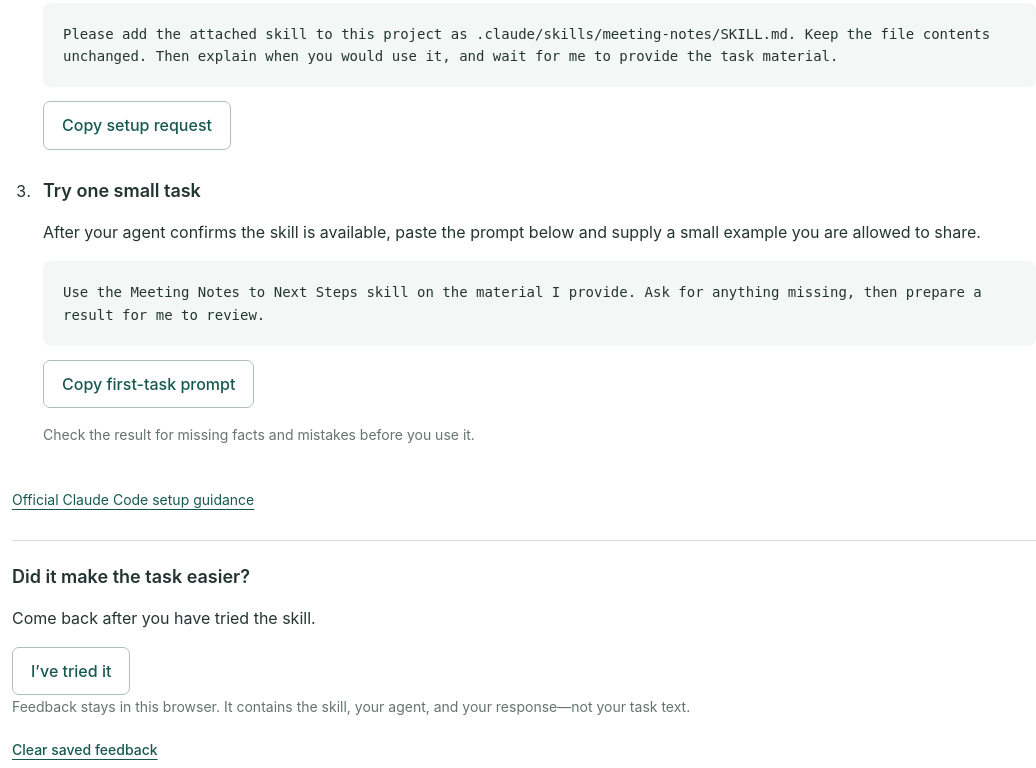
Test: blocks Copy first-task prompt if the review expires while the guide is open
(page scrolled)
Right-click the button "Copy first-task prompt" at (149,384), box [43,360,254,408]
Click the button "Copy first-task prompt" at (149,384), box [43,360,254,408]
(page scrolled)
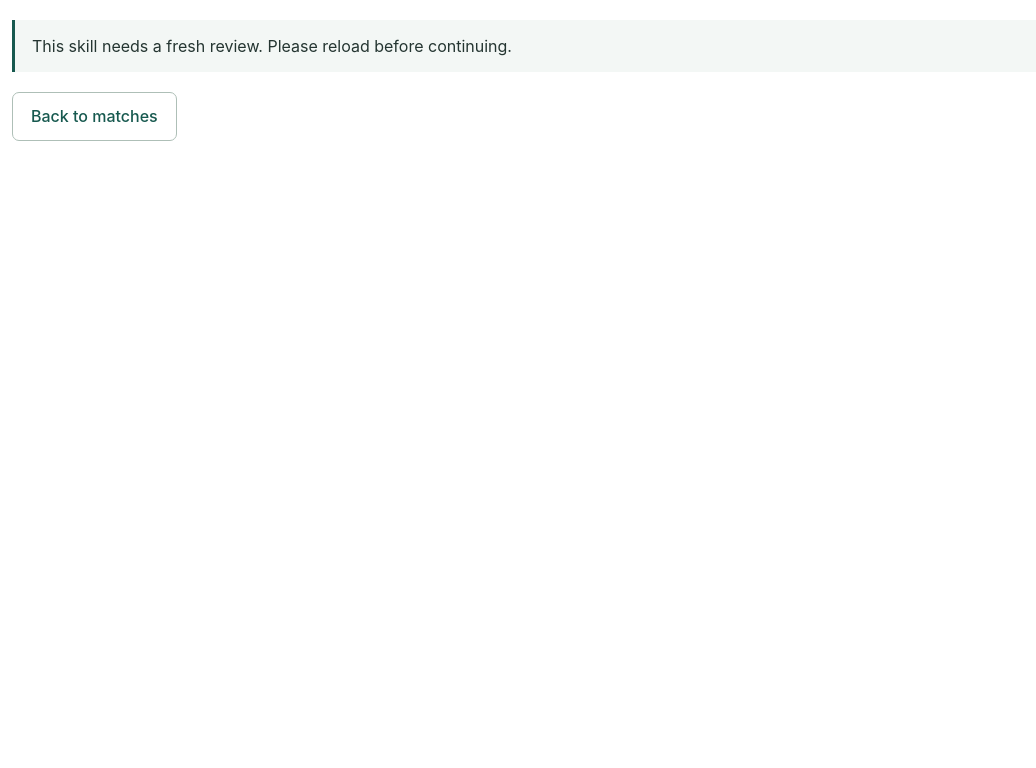
Expected: the message shows "fresh review", [32,36,512,56]
